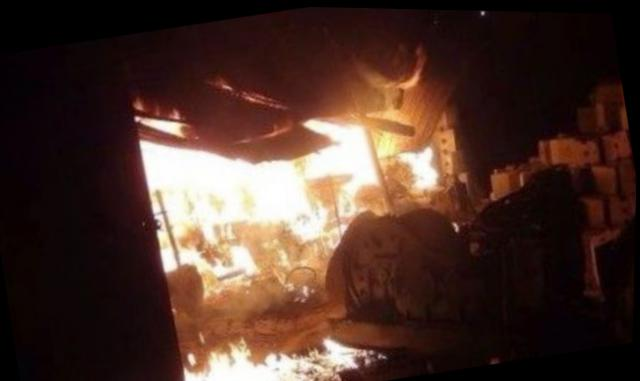fire: (214, 143, 313, 229), (141, 131, 225, 232), (298, 131, 379, 186), (177, 338, 265, 379), (196, 239, 263, 287), (256, 344, 321, 379), (314, 327, 364, 371), (301, 106, 362, 140), (399, 140, 441, 189), (284, 208, 334, 243), (145, 111, 186, 137)
